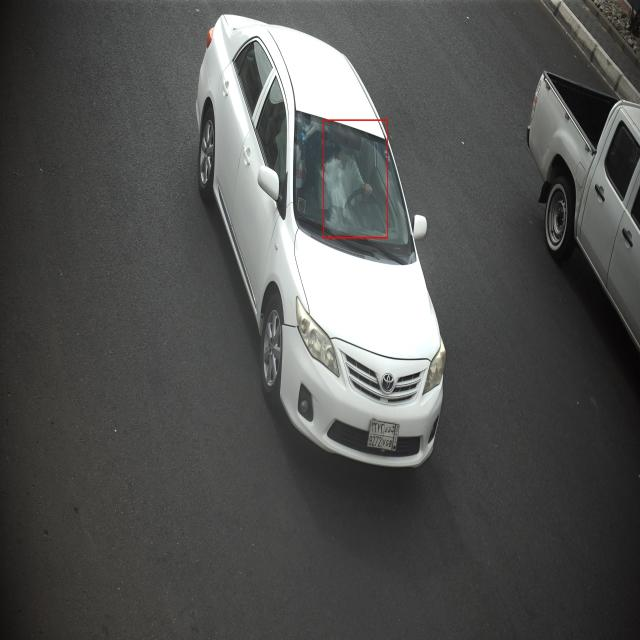windshield: (292, 108, 418, 267)
